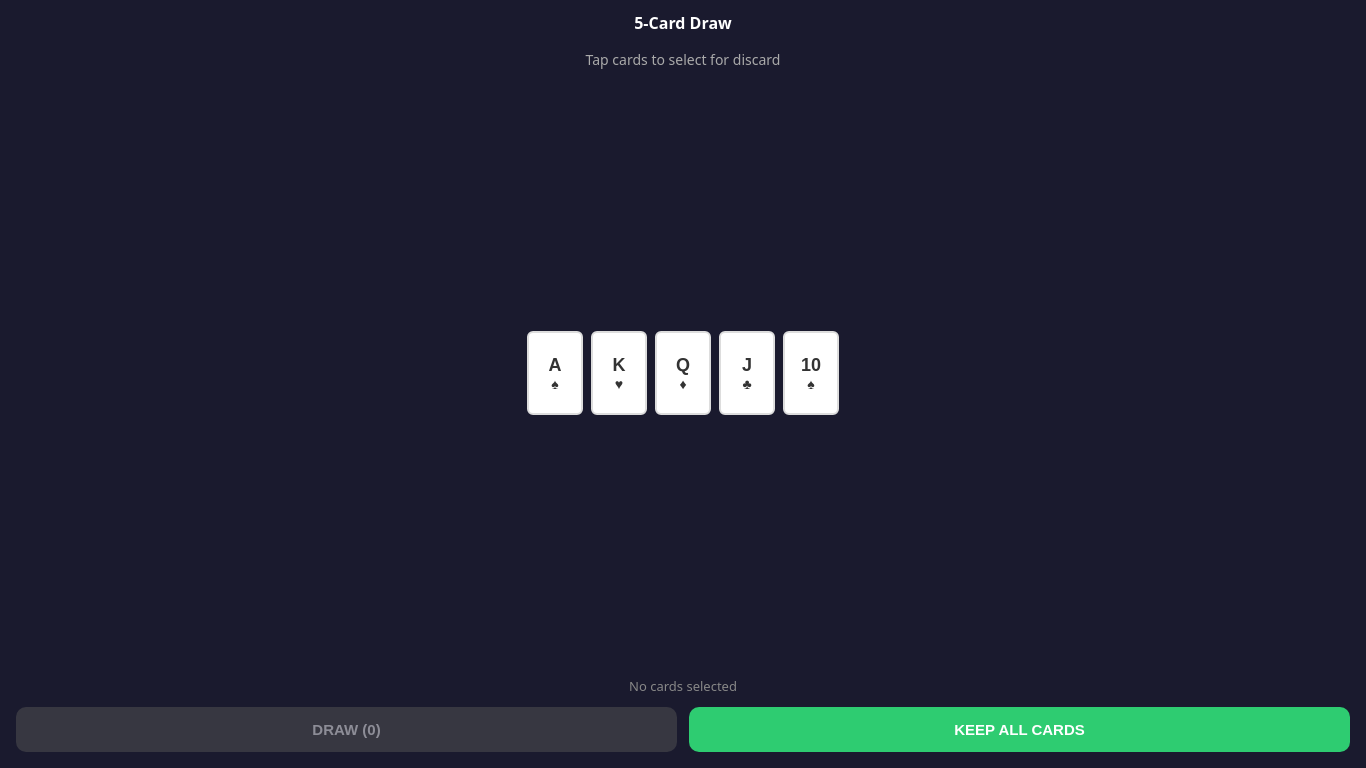
Test: FiveCardDrawController › toggles card selection on click during discard phase
Click the button named "Card 1".
click(555, 373)  # box x1=527 y1=331 x2=583 y2=415
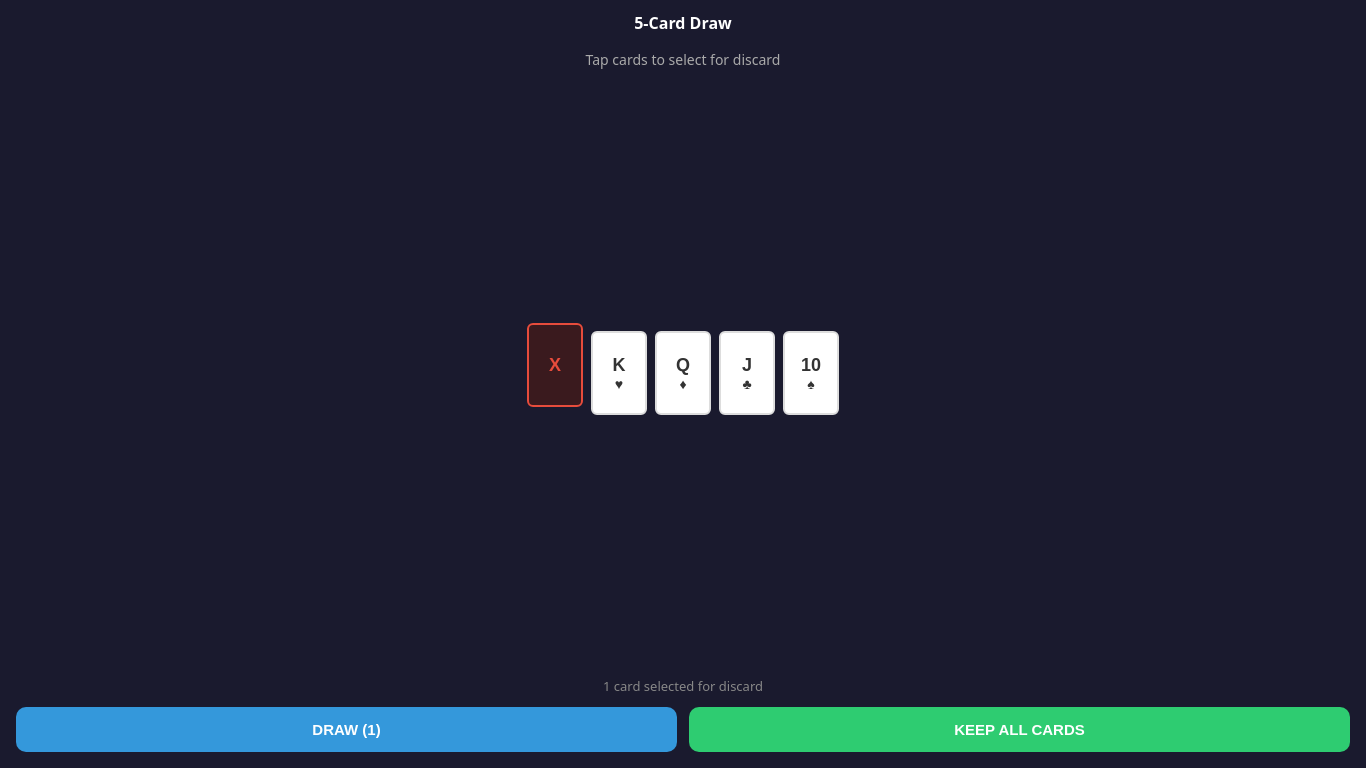
Result: the text "1 card selected for discard" is shown at x1=603 y1=677 x2=763 y2=695
Click the button named "Card 2".
click(619, 373)  # box x1=591 y1=331 x2=647 y2=415
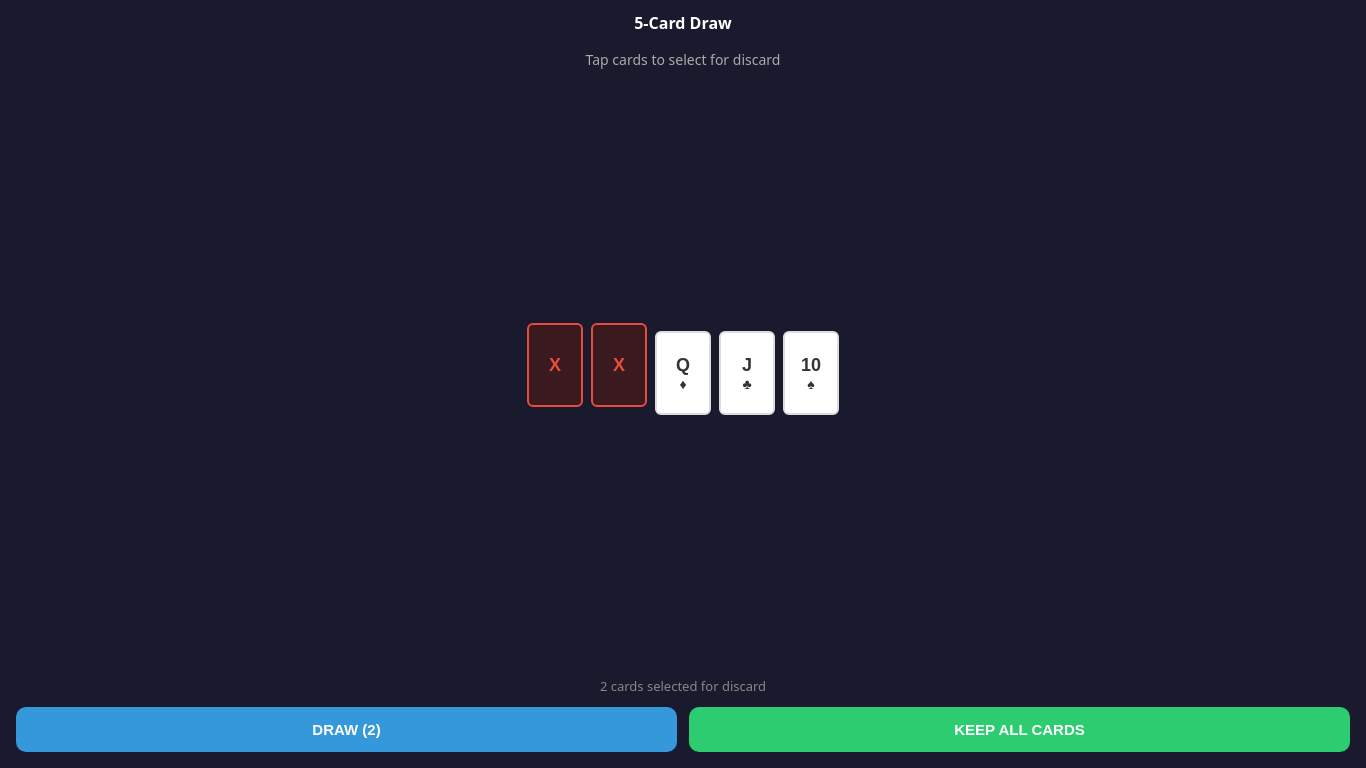
Result: the text "2 cards selected for discard" is shown at x1=600 y1=677 x2=766 y2=695
